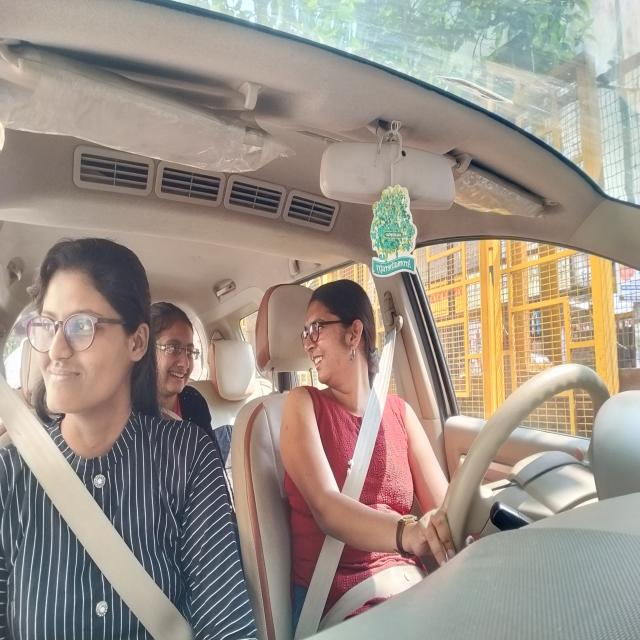LeftRight: (304, 278, 376, 401)
person: (30, 234, 147, 436), (151, 293, 198, 408)
talking: (170, 368, 192, 389), (311, 352, 324, 370)
